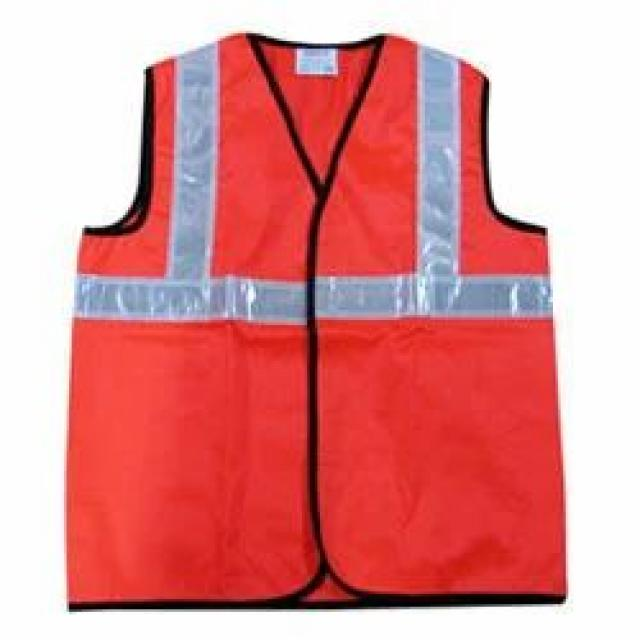Reflective-Jacket: (13, 8, 604, 632)
